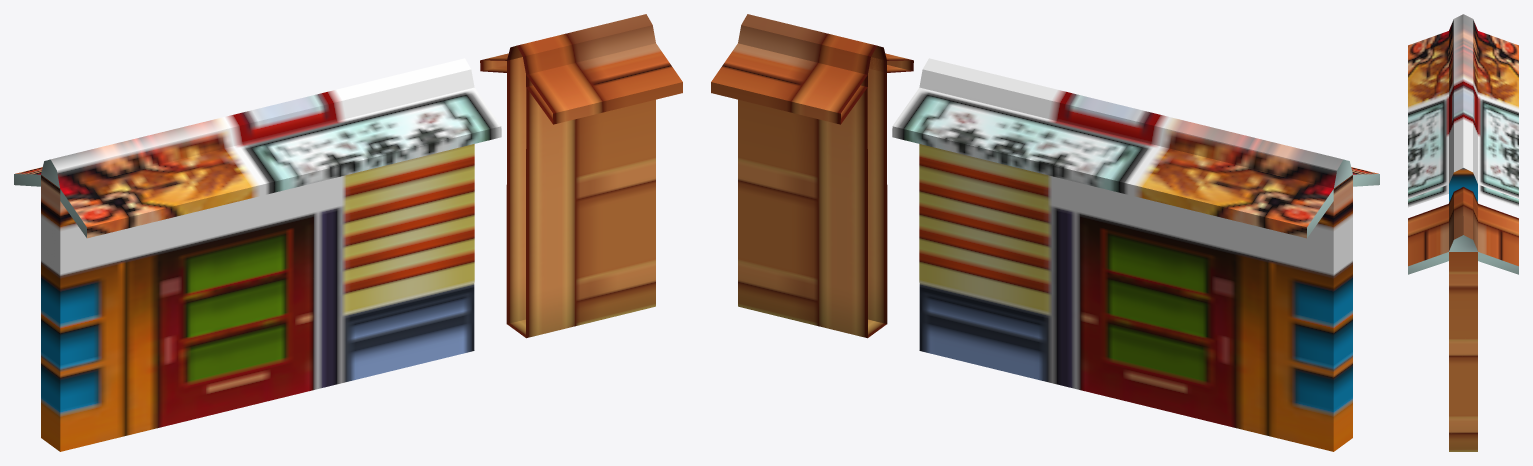
Rendered from wall_01.FBX.
3 renders of one model, left to right at view 1: azimuth 30°, elevation 25°; view 2: azimuth 150°, elevation 25°; view 3: azimuth 270°, elevation 25°, orthographic. The views are drawn at different scales.
Parts seen in each view (by area): view 1: wall_01; view 2: wall_01; view 3: wall_01.
Part boxes in pixels (x1=…): wall_01: x1=14, y1=14, x2=682, y2=451; wall_01: x1=711, y1=14, x2=1379, y2=451; wall_01: x1=1408, y1=14, x2=1518, y2=451.
Bounding box in the file's own units: 114335 × 52353 × 24225.
